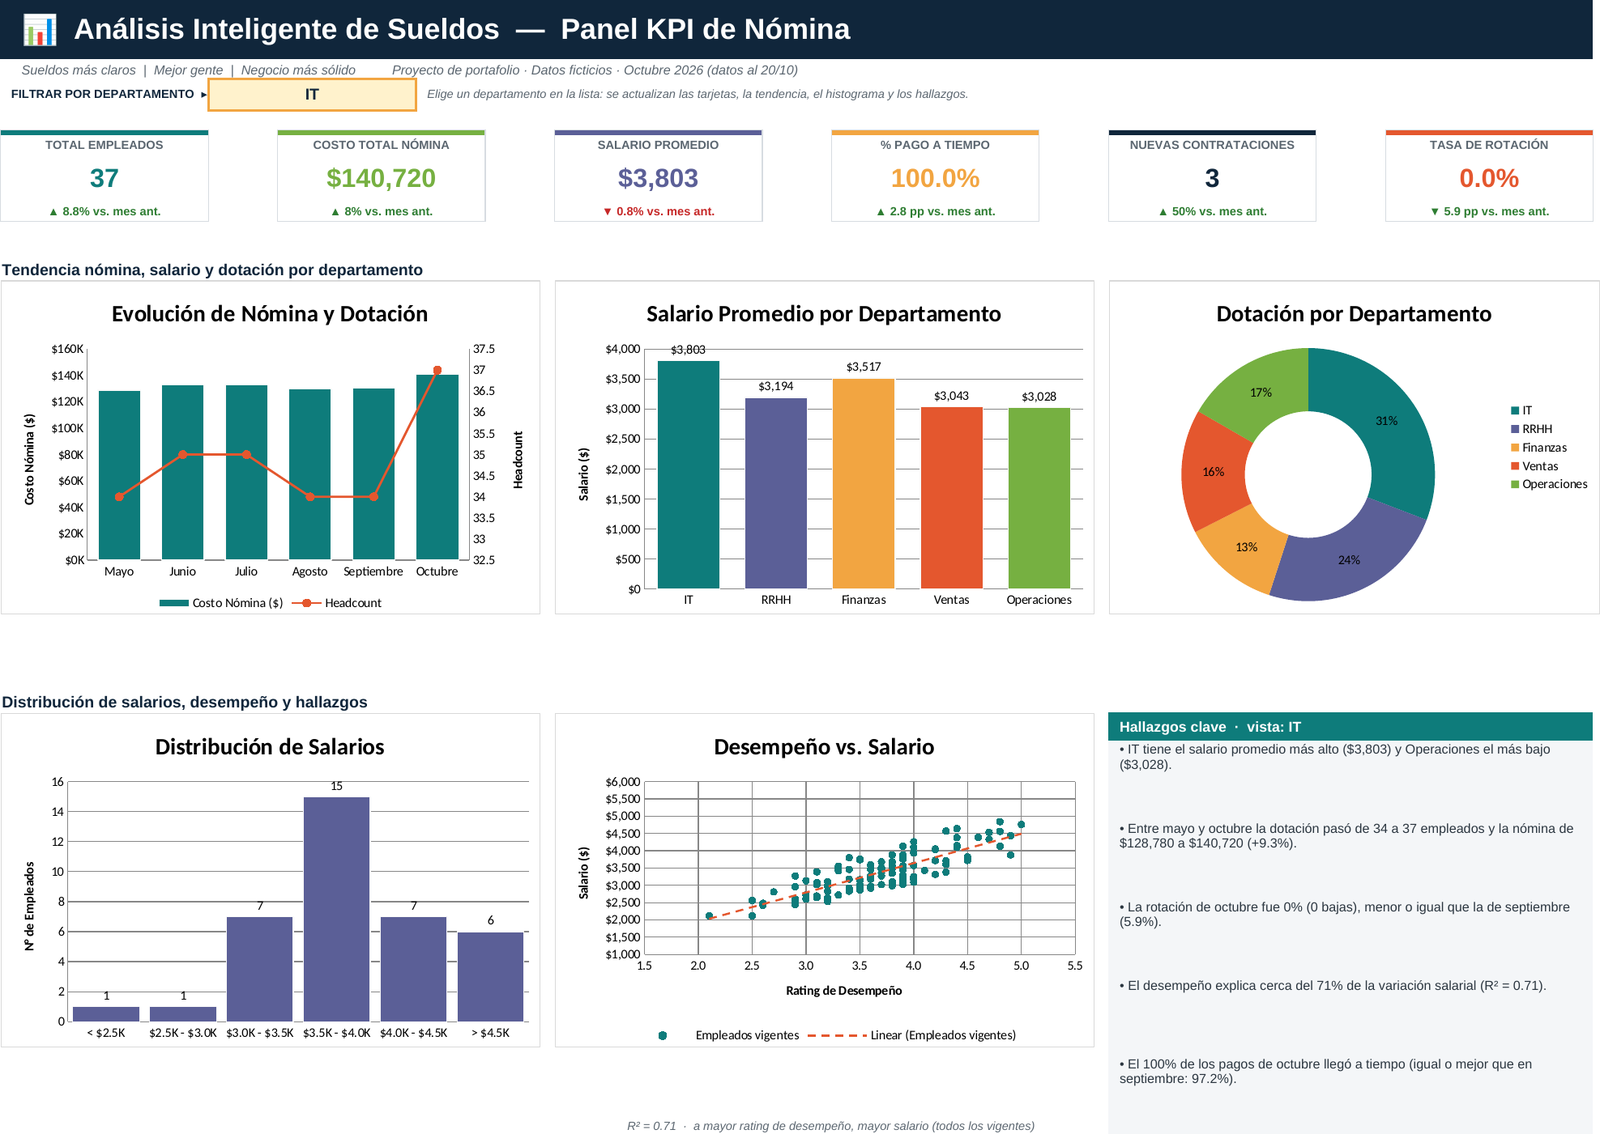

The page's visual inventory and layout, read from the dashboard file:
{"tool":"powerbi","page":{"name":"Página 1","canvas":[1280,720],"ordinal":0},"visuals":[{"type":"cardVisual","fields":{"Data":["meses.Headcount"]},"box":[20,90,195,90],"z":0},{"type":"cardVisual","fields":{"Data":["meses.Etiqueta Headcount"]},"box":[20,165,195.9,90],"z":1000},{"type":"cardVisual","fields":{"Data":["empleados.Costo Nómina"]},"box":[225,90,195.9,90],"z":2000},{"type":"cardVisual","fields":{"Data":["meses.Etiqueta Costo Nómina"]},"box":[225,165,195,90],"z":3000},{"type":"cardVisual","fields":{"Data":["empleados.Salario Promedio"]},"box":[430,90,195,90],"z":4000},{"type":"cardVisual","fields":{"Data":["meses.Etiqueta Salario Promedio"]},"box":[430,165,195,90],"z":5000},{"type":"cardVisual","fields":{"Data":["empleados.% Pago a Tiempo"]},"box":[635,90,195,90],"z":6000},{"type":"cardVisual","fields":{"Data":["meses.Etiqueta Pago"]},"box":[635,165,165,90],"z":7000},{"type":"cardVisual","fields":{"Data":["empleados.Contrataciones"]},"box":[840,90,195,90],"z":8000},{"type":"cardVisual","fields":{"Data":["meses.Etiqueta Contrataciones"]},"box":[840,165,165,90],"z":9000},{"type":"cardVisual","fields":{"Data":["empleados.Rotación %"]},"box":[1045,90,195,90],"z":10000},{"type":"cardVisual","fields":{"Data":["meses.Etiqueta Rotación"]},"box":[1045,165,195,90],"z":11000},{"type":"slicer","fields":{"Values":["empleados.Departamento"]},"box":[20,15,195,90],"z":12000},{"type":"slicer","fields":{"Values":["empleados.Estado"]},"box":[225,15,195,90],"z":13000},{"type":"slicer","fields":{"Values":["empleados.Puesto"]},"box":[430,15,195,90],"z":14000},{"type":"slicer","fields":{"Values":["empleados.AnioIngreso"]},"box":[635,15,195,90],"z":15000},{"type":"lineClusteredColumnComboChart","fields":{"Category":["meses.Mes"],"Y":["empleados.Costo Nómina"],"Y2":["meses.Headcount"]},"box":[19.3,260.2,410.4,257.3],"z":16000},{"type":"clusteredColumnChart","title":"Salario Promedio por Departamento","fields":{"Category":["empleados.Departamento"],"Y":["meses.Salario Prom Vigentes"]},"box":[444.6,260.2,410.4,257.3],"z":17000},{"type":"donutChart","fields":{"Category":["empleados.Departamento"],"Y":["meses.Vigentes"]},"box":[855,275.1,410.4,193.3],"z":18000},{"type":"clusteredColumnChart","title":"Distribución salarial","fields":{"Category":["empleados.RangoSalarial"],"Y":["meses.Vigentes"]},"box":[19.3,504.1,440.2,215.6],"z":19000},{"type":"scatterChart","title":"Desempeño vs. salario","fields":{"X":["Sum(empleados.Rating)"],"Y":["Sum(empleados.Salario)"],"Category":["empleados.ID"]},"box":[459,517,396,203],"z":20000},{"type":"cardVisual","fields":{"Data":["meses.Hallazgo Rotación"]},"box":[844.3,490,215.7,222.9],"z":21000},{"type":"cardVisual","fields":{"Data":["meses.R2 Desempeño vs Salario"]},"box":[1072.9,490,192.9,222.9],"z":22000}]}

Visuals, with their boxes on the page's 1280x720 design canvas (x1, y1, x2, y2). These are canvas units, not pixel positions in the 1600x1134 screenshot, which may show the page scaled, cropped or inside an application window:
cardVisual - meses.Headcount: box(20, 90, 215, 180)
cardVisual - meses.Etiqueta Headcount: box(20, 165, 216, 255)
cardVisual - empleados.Costo Nómina: box(225, 90, 421, 180)
cardVisual - meses.Etiqueta Costo Nómina: box(225, 165, 420, 255)
cardVisual - empleados.Salario Promedio: box(430, 90, 625, 180)
cardVisual - meses.Etiqueta Salario Promedio: box(430, 165, 625, 255)
cardVisual - empleados.% Pago a Tiempo: box(635, 90, 830, 180)
cardVisual - meses.Etiqueta Pago: box(635, 165, 800, 255)
cardVisual - empleados.Contrataciones: box(840, 90, 1035, 180)
cardVisual - meses.Etiqueta Contrataciones: box(840, 165, 1005, 255)
cardVisual - empleados.Rotación %: box(1045, 90, 1240, 180)
cardVisual - meses.Etiqueta Rotación: box(1045, 165, 1240, 255)
slicer - empleados.Departamento: box(20, 15, 215, 105)
slicer - empleados.Estado: box(225, 15, 420, 105)
slicer - empleados.Puesto: box(430, 15, 625, 105)
slicer - empleados.AnioIngreso: box(635, 15, 830, 105)
lineClusteredColumnComboChart - meses.Mes x empleados.Costo Nómina: box(19, 260, 430, 518)
"Salario Promedio por Departamento" clusteredColumnChart: box(445, 260, 855, 518)
donutChart - empleados.Departamento x meses.Vigentes: box(855, 275, 1265, 468)
"Distribución salarial" clusteredColumnChart: box(19, 504, 460, 720)
"Desempeño vs. salario" scatterChart: box(459, 517, 855, 720)
cardVisual - meses.Hallazgo Rotación: box(844, 490, 1060, 713)
cardVisual - meses.R2 Desempeño vs Salario: box(1073, 490, 1266, 713)
